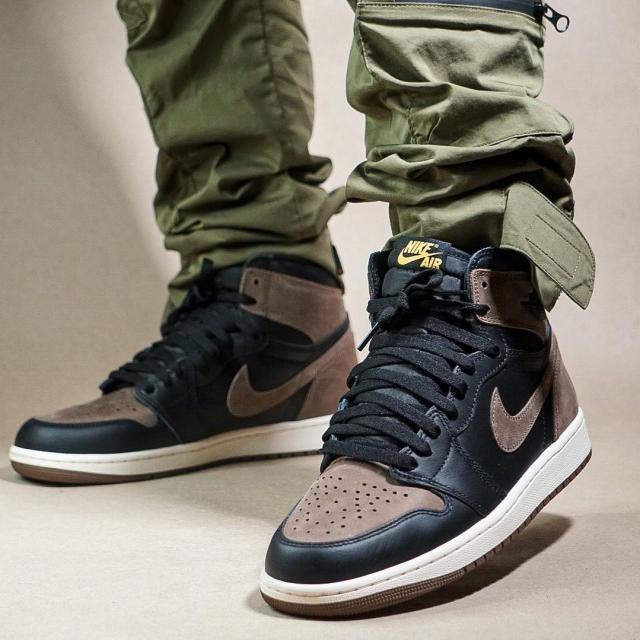nike original jordan 1: (257, 201, 601, 623)
